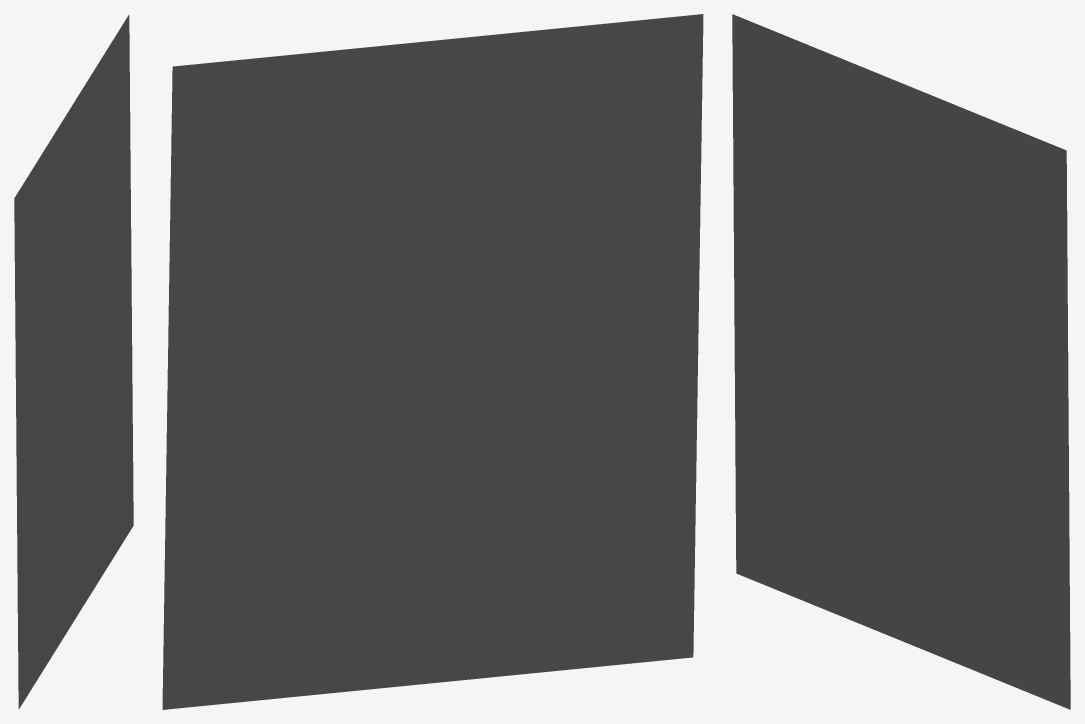
File: secondary_156.glb
The picture shows the model from 3 angles, left to right: view 1: azimuth 30°, elevation 25°; view 2: azimuth 150°, elevation 25°; view 3: azimuth 270°, elevation 25°; orthographic projection. The views are drawn at different scales.
Visible parts, largest first — view 1: Object; view 2: Object; view 3: Object.
Boxes of the visible parts, box(x1,y1,x2,y2) form: Object: box(14, 14, 133, 709); Object: box(162, 14, 703, 709); Object: box(732, 14, 1070, 709).
Size of the model in its own units: 1.5 by 2.71 by 1.48.
1 material, 1 textured.
